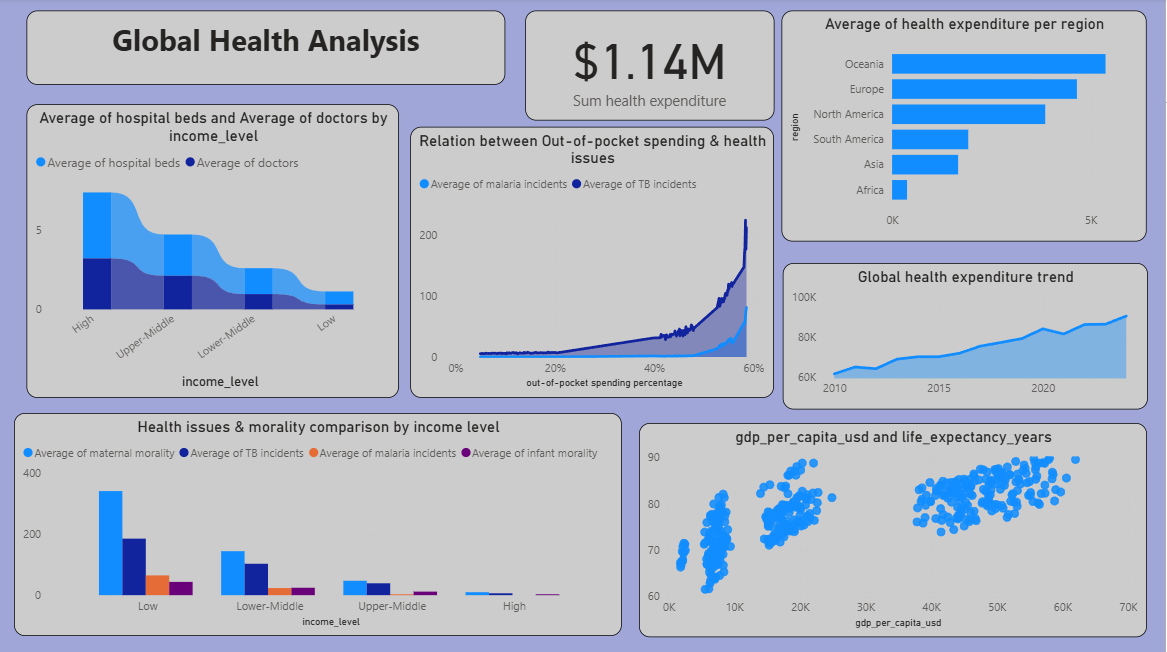

What the dashboard file says about the page in this screenshot:
{"tool":"powerbi","page":{"name":"Global health analysis","canvas":[1280,720],"ordinal":0},"visuals":[{"type":"card","fields":{"Values":["Sum(global_health_2010_2024.health_expenditure_per_capita_usd)"]},"box":[577.3,14.3,273.7,121.2],"z":0},{"type":"areaChart","title":"Relation between Out-of-pocket spending & health issues","fields":{"Category":["global_health_2010_2024.out-of-pocket spending percentage"],"Y":["Avg(global_health_2010_2024.malaria_incidence_per_1000)","Avg(global_health_2010_2024.tb_incidence_per_100k)"]},"box":[451.8,141.1,399.1,297.9],"z":1000},{"type":"areaChart","title":"Global health expenditure trend","fields":{"Category":["global_health_2010_2024.year"],"Y":["Sum(global_health_2010_2024.health_expenditure_per_capita_usd)"]},"box":[860.9,290.8,400.5,161.1],"z":2000},{"type":"clusteredColumnChart","title":"Health issues & morality comparison by income level","fields":{"Category":["global_health_2010_2024.income_level"],"Y":["Avg(global_health_2010_2024.maternal_mortality_per_100k)","Avg(global_health_2010_2024.tb_incidence_per_100k)","Avg(global_health_2010_2024.malaria_incidence_per_1000)","Avg(global_health_2010_2024.infant_mortality_per_1000)"]},"box":[17.1,456.1,667.1,245.2],"z":3000},{"type":"scatterChart","fields":{"X":["global_health_2010_2024.gdp_per_capita_usd"],"Y":["global_health_2010_2024.life_expectancy_years"]},"box":[702.7,466.1,557.3,235.2],"z":4000},{"type":"ribbonChart","fields":{"Y":["Avg(global_health_2010_2024.hospital_beds_per_1000)","Avg(global_health_2010_2024.doctors_per_1000)"],"Category":["global_health_2010_2024.income_level"]},"box":[29.9,116.9,409.1,322.1],"z":5000},{"type":"textbox","box":[29.9,14.3,526,81.2],"z":6000},{"type":"clusteredBarChart","title":"Average of health expenditure per region","fields":{"Category":["global_health_2010_2024.region"],"Y":["Avg(global_health_2010_2024.health_expenditure_per_capita_usd)"]},"box":[859.5,14.3,400.5,253.7],"z":7000}]}

Visuals, with their boxes in screenshot pixels (x1, y1, x2, y2), scaled from the page's 1280x720 canvas onto the 1167x652 screenshot:
card - Sum(global_health_2010_2024.health_expenditure_per_capita_usd): left=526, top=13, right=776, bottom=123
"Relation between Out-of-pocket spending & health issues" areaChart: left=412, top=128, right=776, bottom=398
"Global health expenditure trend" areaChart: left=785, top=263, right=1150, bottom=409
"Health issues & morality comparison by income level" clusteredColumnChart: left=16, top=413, right=624, bottom=635
scatterChart - global_health_2010_2024.gdp_per_capita_usd x global_health_2010_2024.life_expectancy_years: left=641, top=422, right=1149, bottom=635
ribbonChart - Avg(global_health_2010_2024.hospital_beds_per_1000) x Avg(global_health_2010_2024.doctors_per_1000): left=27, top=106, right=400, bottom=398
textbox: left=27, top=13, right=507, bottom=86
"Average of health expenditure per region" clusteredBarChart: left=784, top=13, right=1149, bottom=243
